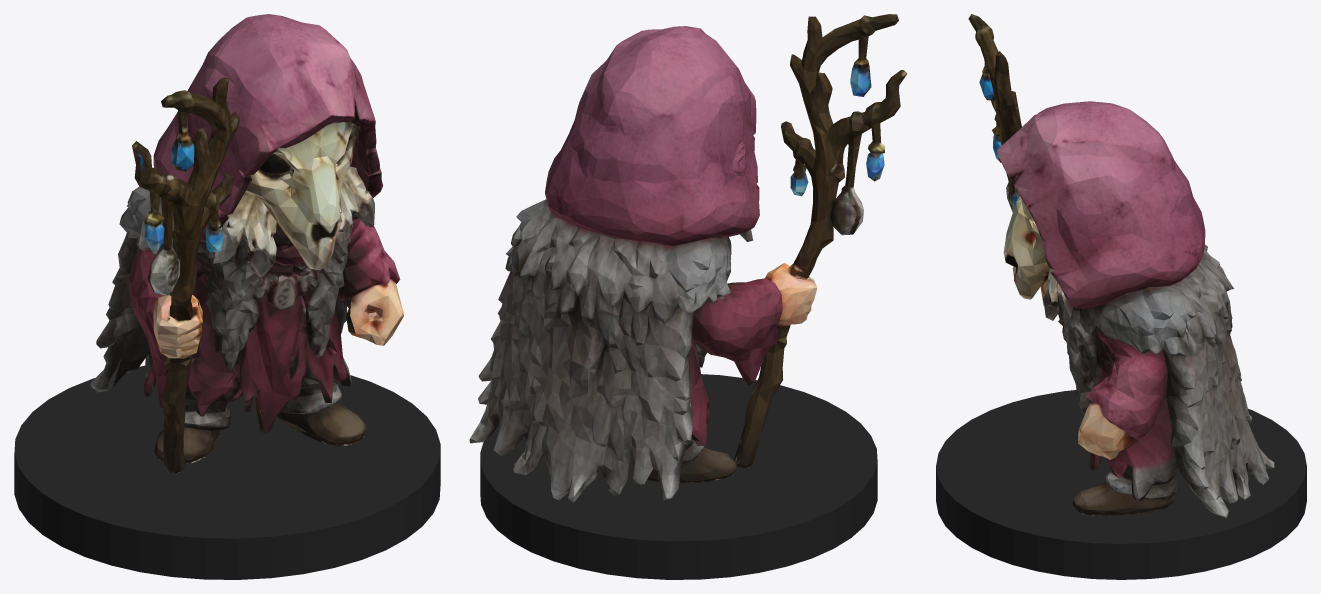
Rendered from darkoath-godspeaker.glb.
3 views of the same model, side by side, from view 1: azimuth 30°, elevation 25°; view 2: azimuth 150°, elevation 25°; view 3: azimuth 270°, elevation 25° (orthographic). The views are drawn at different scales.
Parts seen in each view (by area): view 1: figure, base; view 2: figure, base; view 3: figure, base.
Part boxes in pixels (bbox=[...]): figure: bbox=[90, 14, 403, 473]; base: bbox=[14, 365, 440, 579]; figure: bbox=[469, 14, 907, 502]; base: bbox=[480, 374, 877, 579]; figure: bbox=[968, 14, 1274, 517]; base: bbox=[936, 390, 1306, 579].
Size of the model in its own units: 1.12 by 1.42 by 1.12.
Materials: 2 (1 with a texture image).
